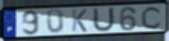0: (45, 9, 65, 35)
6: (119, 6, 138, 32)
9: (21, 9, 41, 36)
C: (140, 5, 164, 31)
K: (70, 8, 88, 33)
U: (91, 6, 116, 34)
